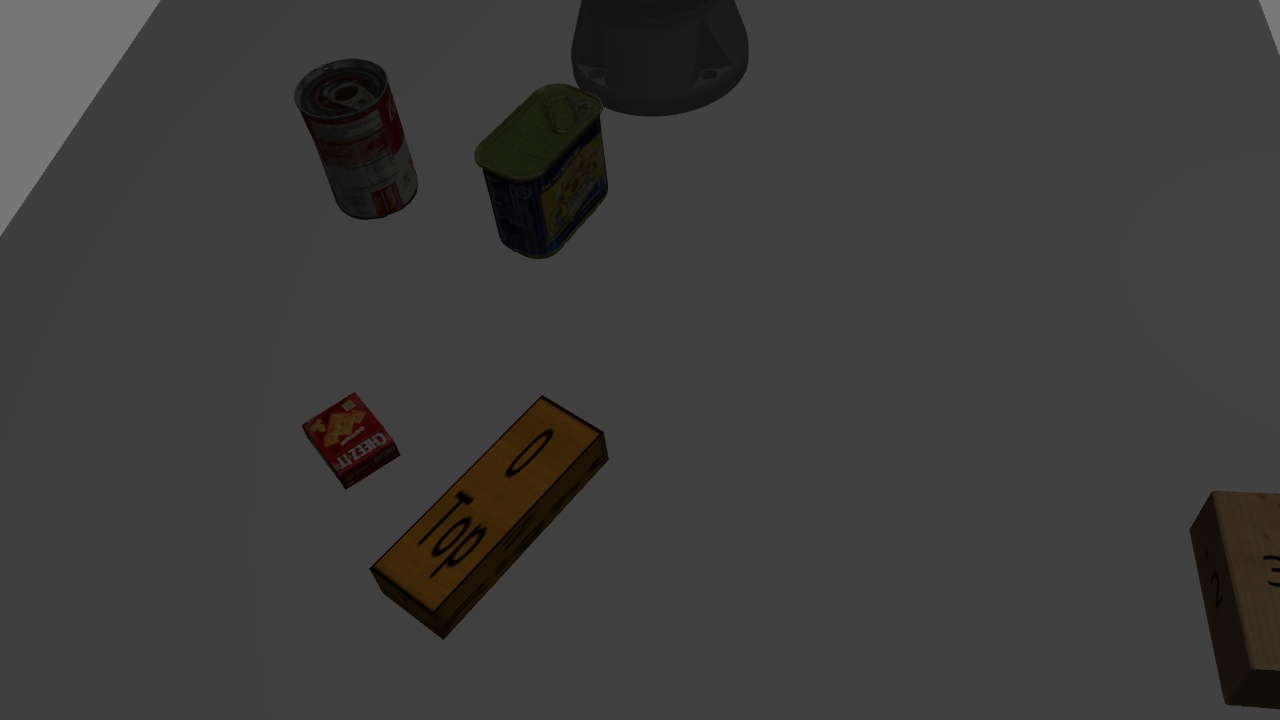cracker_box: (301, 395, 395, 472)
jenga: (366, 389, 610, 639)
potted_meat_can: (474, 76, 611, 263)
tomato_soup_can: (292, 52, 432, 231)
wood_block: (1183, 488, 1276, 711)
